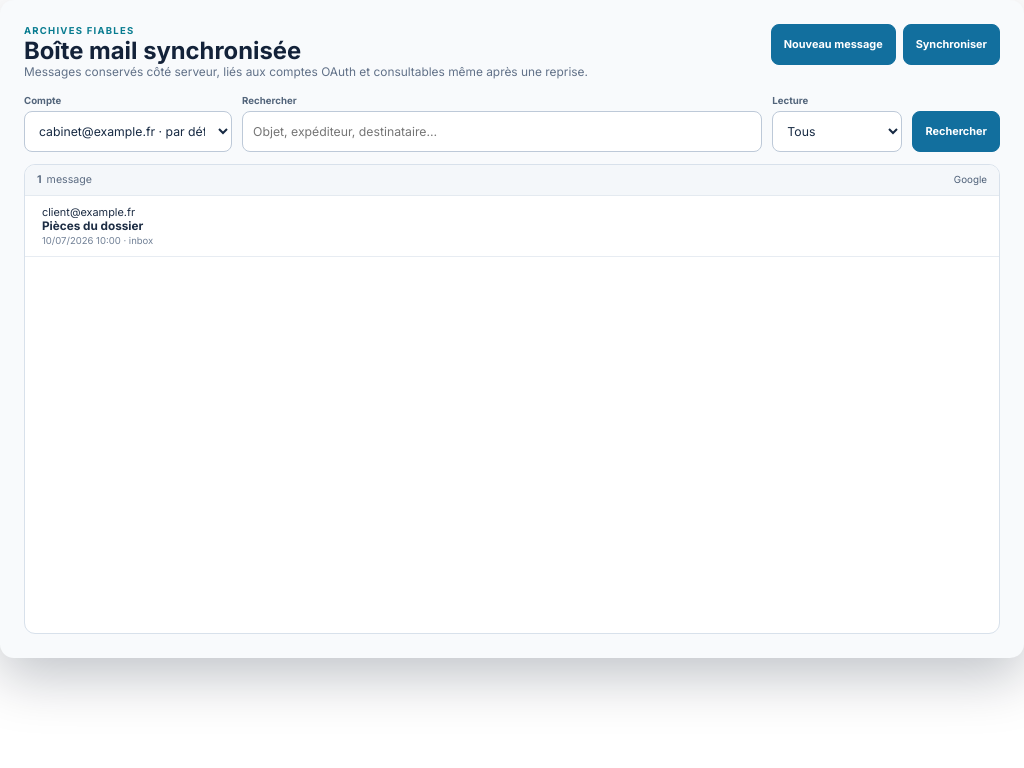
ArchivedMailbox › classe manuellement le message dans un dossier et des contacts accessibles
Click the button "client@example.fr Pièces du dossier 10/07/2026 10:00 · inbox" at point(89, 212), box [25,196,999,256]
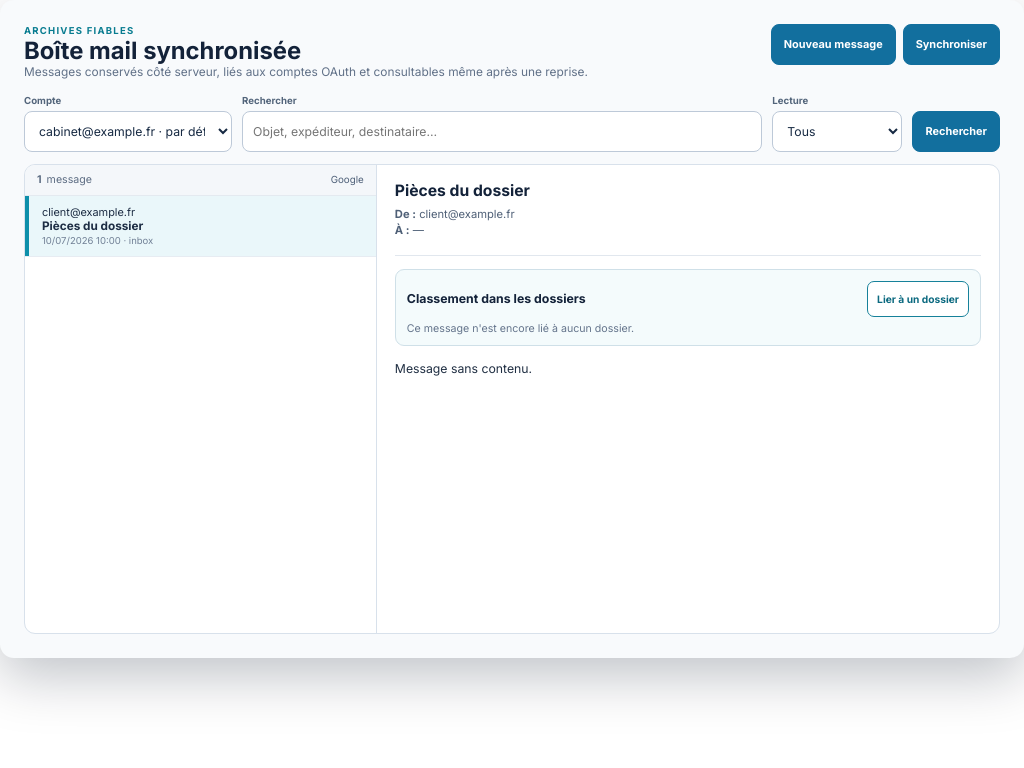
Click the button "Lier à un dossier" at point(918, 299), box [867,281,969,317]
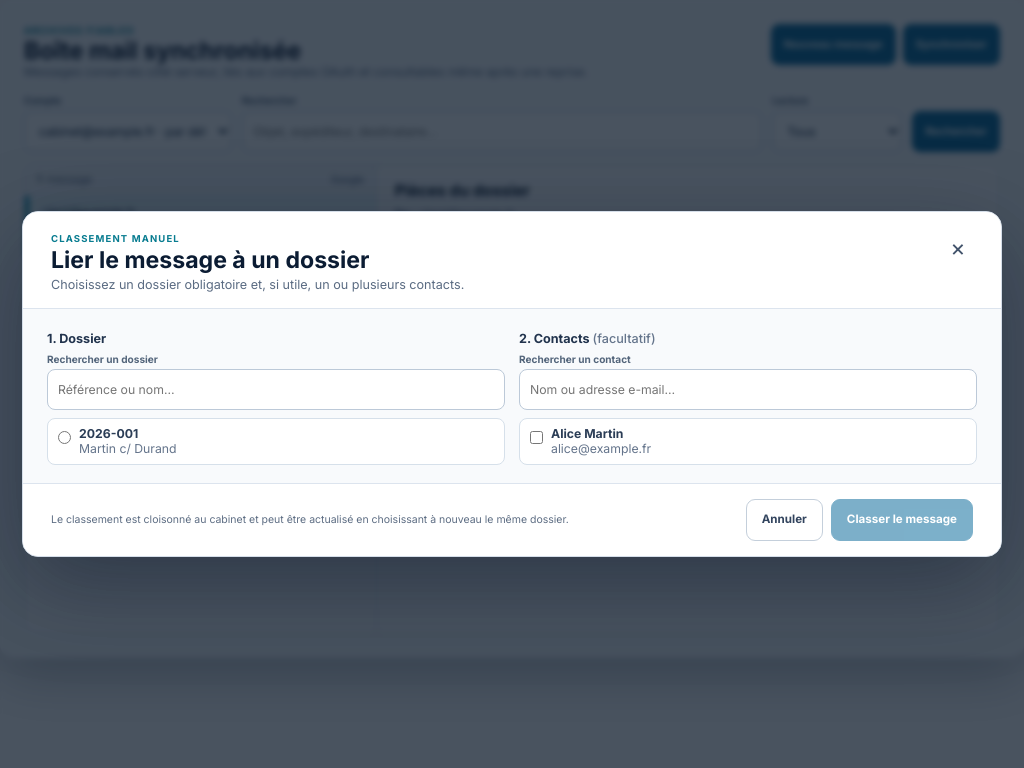
Click the radio button labelled "2026-001 Martin c/ Durand" at point(64, 438), box [58,431,71,444]
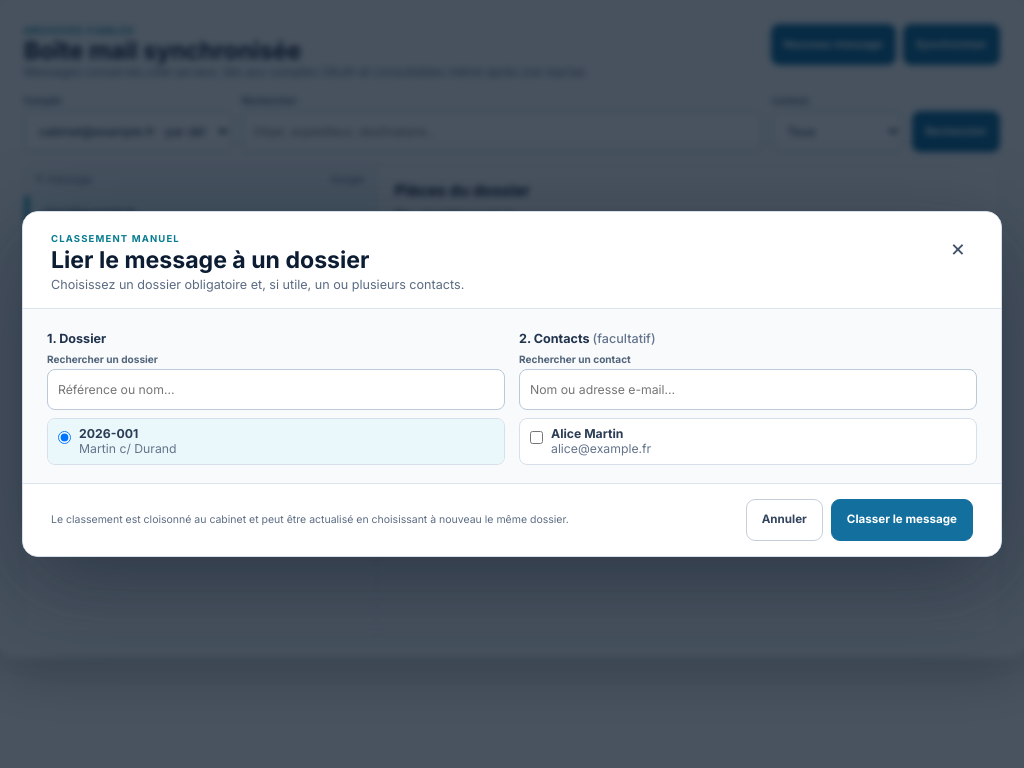
Click the checkbox labelled "Alice Martin alice@example.fr" at point(536, 438), box [530,431,543,444]
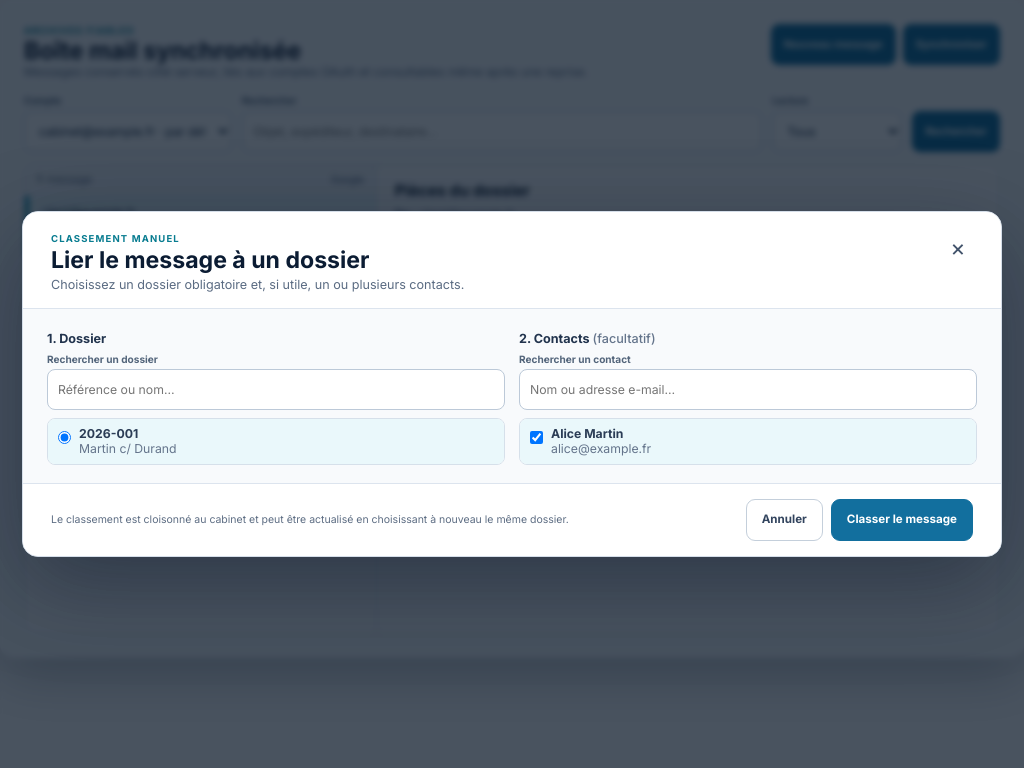
Click the button "Classer le message" at point(902, 520), box [831,499,973,541]
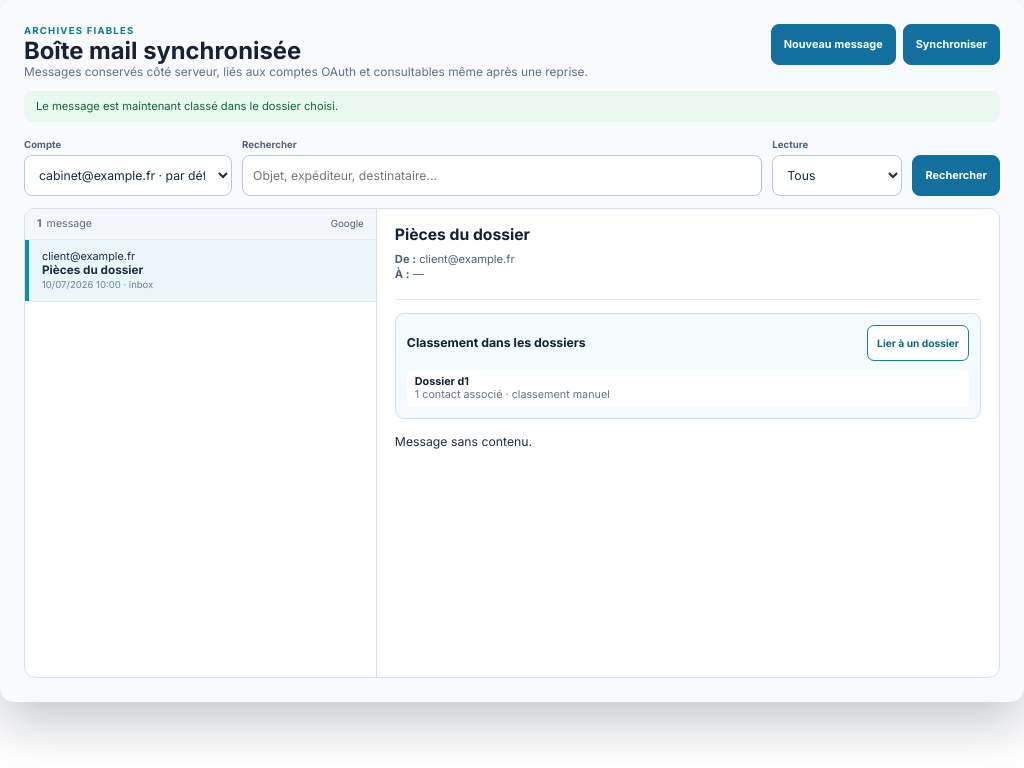
Now the text "Le message est maintenant classé dans le dossier choisi." is shown, box [24,91,1000,122]
